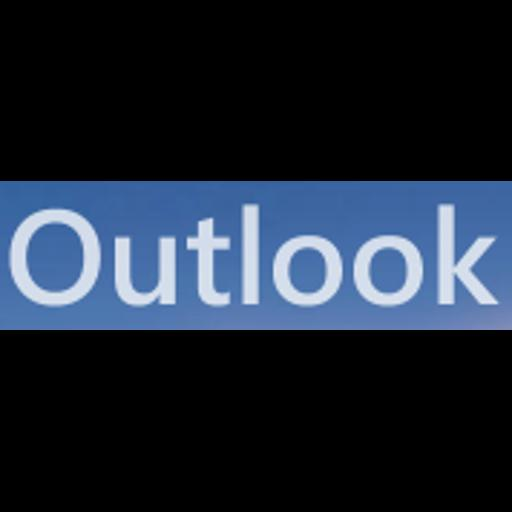Outlook: (0, 181, 512, 330)
